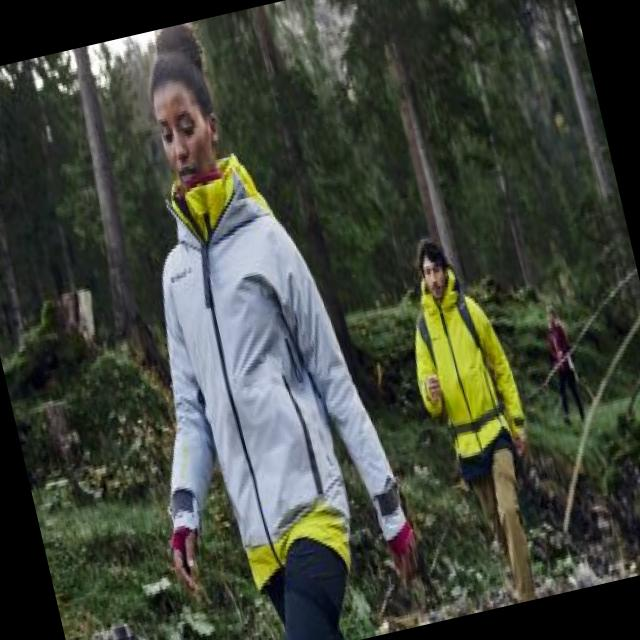Jacket: (79, 166, 419, 614), (393, 267, 533, 480)
